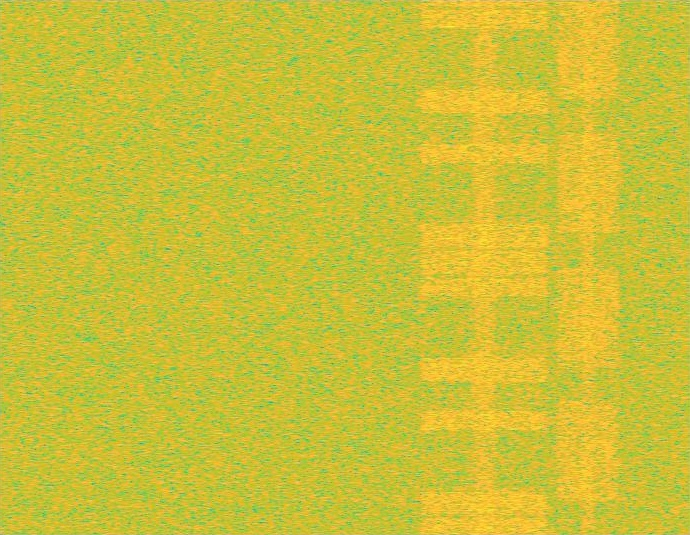5G: (554, 0, 623, 534)
DSSS: (469, 0, 500, 534), (580, 0, 596, 534)
LTE: (416, 0, 554, 534)
Radar: (443, 0, 457, 534)
